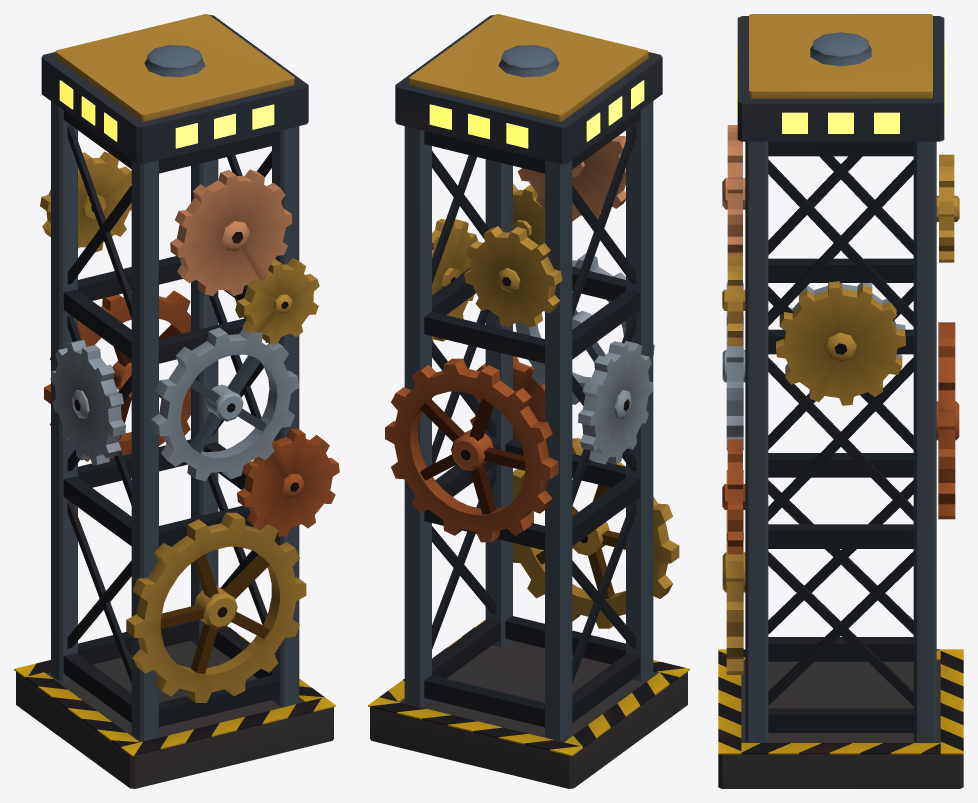
Rendered from gear_tower.glb.
3 renders of one model, left to right at view 1: azimuth 30°, elevation 25°; view 2: azimuth 150°, elevation 25°; view 3: azimuth 270°, elevation 25°, orthographic. The views are drawn at different scales.
Visible parts, largest first — view 1: gear_tower; view 2: gear_tower; view 3: gear_tower.
Boxes of the visible parts, <box> form: gear_tower: <box>14,14,339,788</box>; gear_tower: <box>368,14,689,788</box>; gear_tower: <box>718,14,963,788</box>.
Size of the model in its own units: 3.33 by 10 by 3.2.
